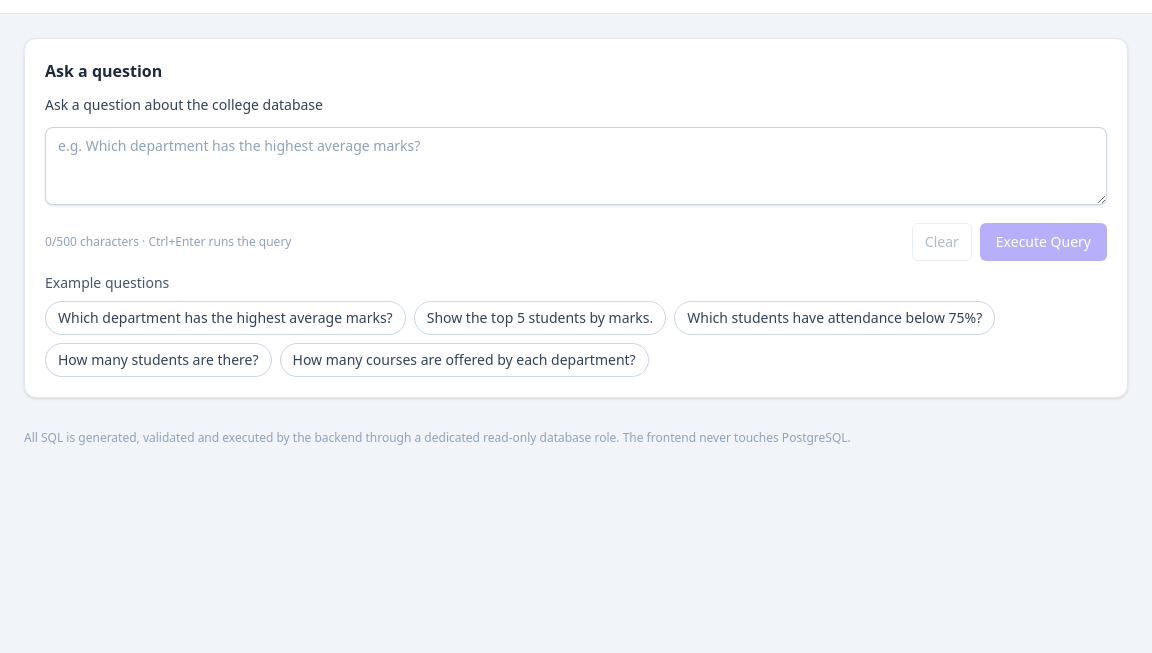
Test case: SchemaRAG App › renders an empty result set gracefully
The width and height of the screenshot is (1152, 653).
Type "How many students are there?" into the text box labelled "Ask a question about the college database".
click(576, 166); type("How many students are there?")  # box x1=45 y1=127 x2=1107 y2=205
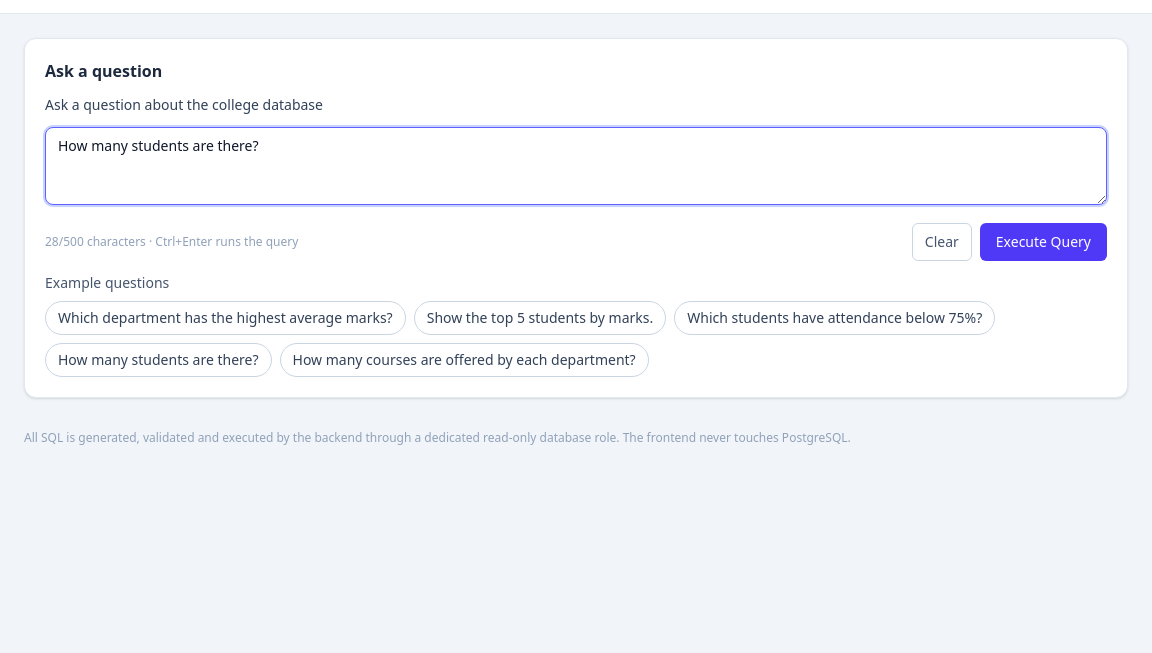
Click the button with test id "execute-button".
click(1043, 242)  # box x1=980 y1=223 x2=1107 y2=261
(page scrolled)
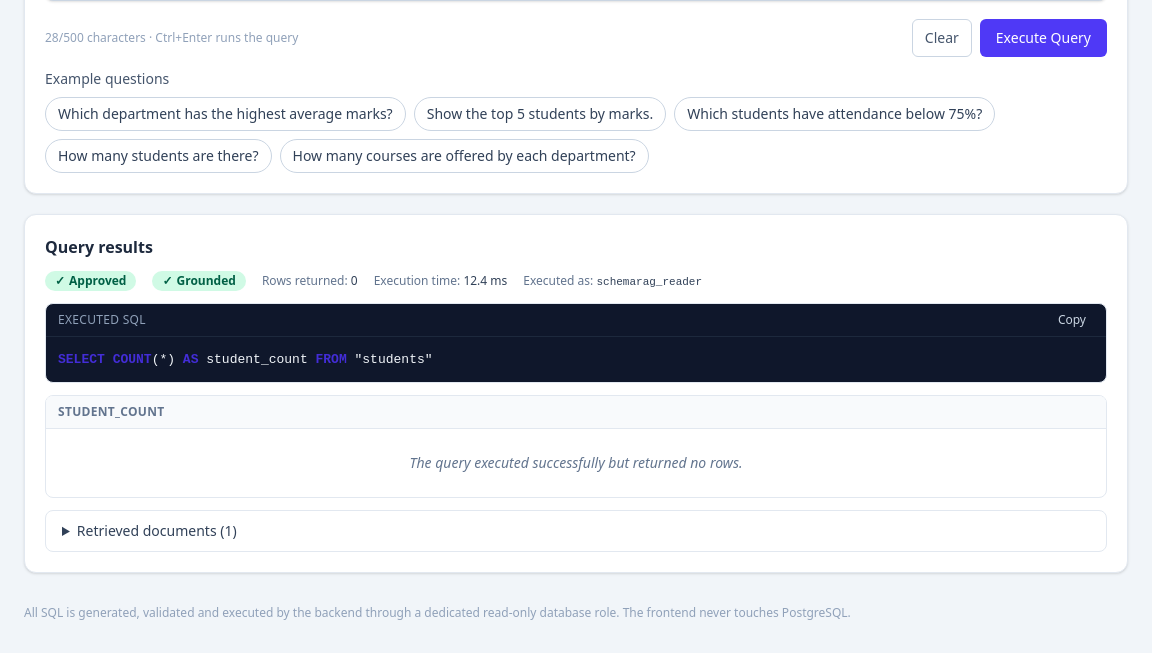
Now the text "The query executed successfully but returned no rows." is shown, box x1=46 y1=429 x2=1106 y2=497
